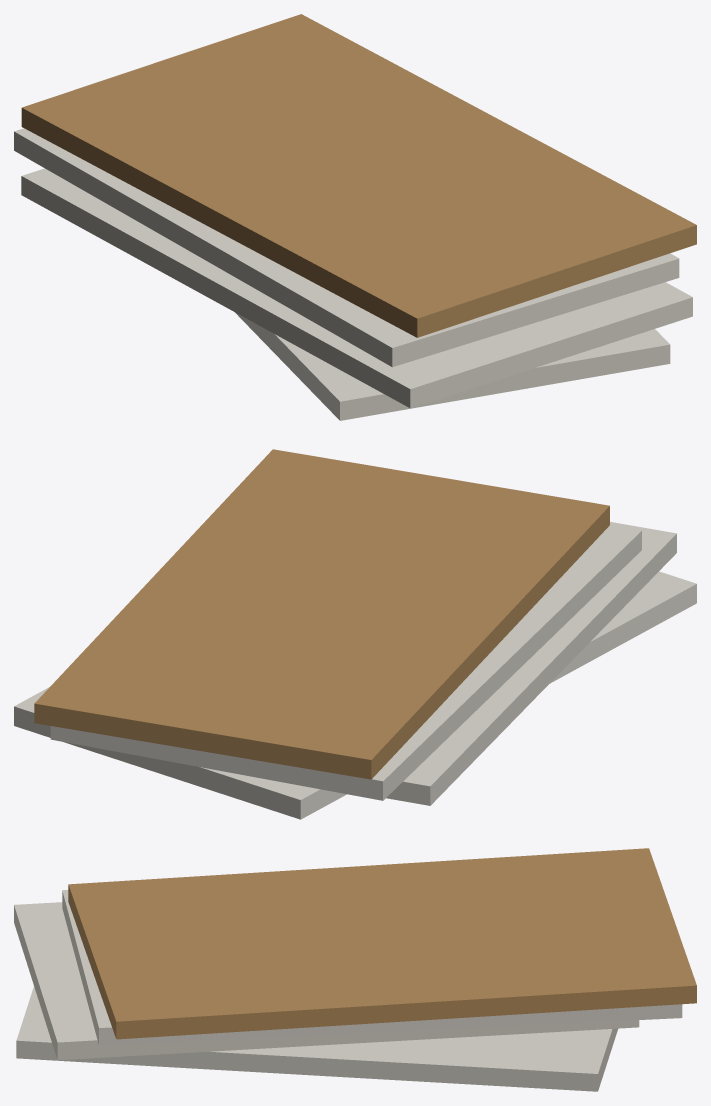
File: foyer-bits.glb
The picture shows the model from 3 angles, top to bottom: view 1: azimuth 30°, elevation 25°; view 2: azimuth 150°, elevation 25°; view 3: azimuth 270°, elevation 25°; orthographic projection. The views are drawn at different scales.
Bounding box in the file's own units: 0.5644 × 0.103 × 0.8728.
